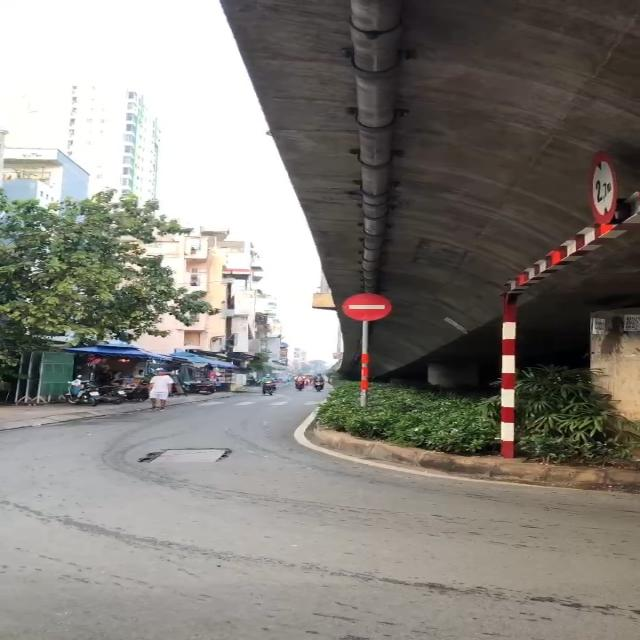Bien bao cam di nguoc chieu: (334, 288, 400, 326)
Bien bao han che chieu cao: (582, 146, 631, 229)
